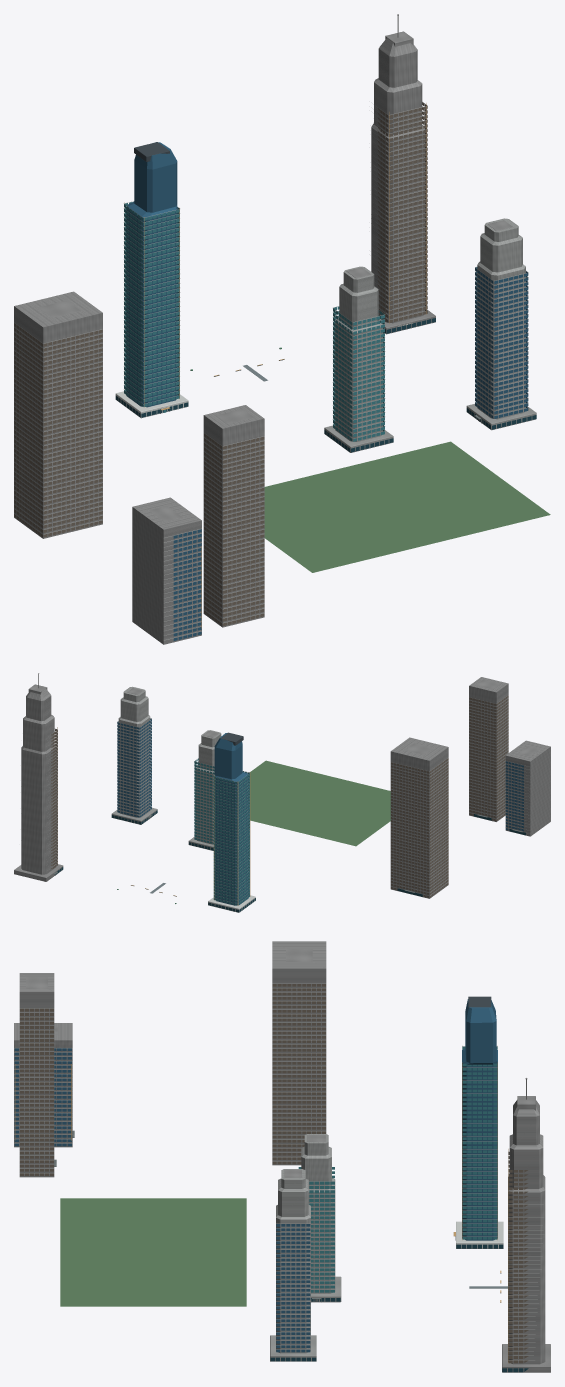
The model's file is cell_3_-2_lod1.gltf.
3 views of the same model, one above another, from view 1: azimuth 30°, elevation 25°; view 2: azimuth 150°, elevation 25°; view 3: azimuth 270°, elevation 25° (orthographic). The views are drawn at different scales.
Parts seen in each view (by area): view 1: EKO_FINANCE_SPIRE, EKO_BATCH_EKO_|_smoked_bronze_glass, OPENSPACE_1760, ATLANTIC_EXCHANGE_LANDMARK, EKO_RETAIL_PODIUM_ATLANTIC_EXCHANGE_LANDMARK, EKO_ENTRY_DOOR_ATLANTIC_EXCHANGE_LANDMARK, EKO_FINANCE_TOWER_03, EKO_CROWN_EKO_FINANCE_SPIRE, EKO_ENTRY_PIER_A_EKO_FINANCE_TOWER_03, EKO_BATCH_EKO_|_retail_storefront_glass, EKO_ENTRY_CANOPY_ATLANTIC_EXCHANGE_LANDMARK; view 2: EKO_FINANCE_SPIRE, EKO_BATCH_EKO_|_smoked_bronze_glass, OPENSPACE_1760, ATLANTIC_EXCHANGE_LANDMARK, EKO_RETAIL_PODIUM_ATLANTIC_EXCHANGE_LANDMARK, EKO_ENTRY_DOOR_ATLANTIC_EXCHANGE_LANDMARK, EKO_FINANCE_TOWER_03, EKO_CROWN_EKO_FINANCE_SPIRE, EKO_BATCH_EKO_|_retail_storefront_glass, EKO_ENTRY_CANOPY_ATLANTIC_EXCHANGE_LANDMARK, EKO_ENTRY_PIER_A_EKO_FINANCE_TOWER_03; view 3: EKO_FINANCE_SPIRE, OPENSPACE_1760, EKO_BATCH_EKO_|_smoked_bronze_glass, ATLANTIC_EXCHANGE_LANDMARK, EKO_RETAIL_PODIUM_ATLANTIC_EXCHANGE_LANDMARK, EKO_FINANCE_TOWER_03, EKO_ENTRY_DOOR_ATLANTIC_EXCHANGE_LANDMARK, EKO_CROWN_EKO_FINANCE_SPIRE, EKO_ENTRY_PIER_A_EKO_FINANCE_TOWER_03, EKO_ENTRY_CANOPY_ATLANTIC_EXCHANGE_LANDMARK, EKO_BATCH_EKO_|_retail_storefront_glass.
Boxes of the visible parts, x1,y1,x2,y2 form: EKO_FINANCE_SPIRE: [14, 38, 424, 644]; EKO_BATCH_EKO_|_smoked_bronze_glass: [14, 102, 427, 626]; OPENSPACE_1760: [264, 441, 550, 572]; ATLANTIC_EXCHANGE_LANDMARK: [126, 142, 528, 640]; EKO_RETAIL_PODIUM_ATLANTIC_EXCHANGE_LANDMARK: [14, 102, 528, 640]; EKO_ENTRY_DOOR_ATLANTIC_EXCHANGE_LANDMARK: [124, 201, 384, 441]; EKO_FINANCE_TOWER_03: [335, 218, 525, 441]; EKO_CROWN_EKO_FINANCE_SPIRE: [39, 14, 512, 521]; EKO_ENTRY_PIER_A_EKO_FINANCE_TOWER_03: [324, 404, 536, 452]; EKO_BATCH_EKO_|_retail_storefront_glass: [115, 318, 536, 452]; EKO_ENTRY_CANOPY_ATLANTIC_EXCHANGE_LANDMARK: [124, 103, 426, 628]; EKO_FINANCE_SPIRE: [21, 677, 550, 898]; EKO_BATCH_EKO_|_smoked_bronze_glass: [51, 695, 508, 897]; OPENSPACE_1760: [250, 760, 390, 846]; ATLANTIC_EXCHANGE_LANDMARK: [117, 718, 523, 905]; EKO_RETAIL_PODIUM_ATLANTIC_EXCHANGE_LANDMARK: [51, 695, 529, 912]; EKO_ENTRY_DOOR_ATLANTIC_EXCHANGE_LANDMARK: [194, 758, 249, 905]; EKO_FINANCE_TOWER_03: [118, 686, 221, 844]; EKO_CROWN_EKO_FINANCE_SPIRE: [14, 673, 539, 881]; EKO_BATCH_EKO_|_retail_storefront_glass: [55, 810, 525, 912]; EKO_ENTRY_CANOPY_ATLANTIC_EXCHANGE_LANDMARK: [57, 727, 250, 905]; EKO_ENTRY_PIER_A_EKO_FINANCE_TOWER_03: [111, 807, 213, 850]; EKO_FINANCE_SPIRE: [14, 941, 545, 1364]; OPENSPACE_1760: [60, 1198, 246, 1306]; EKO_BATCH_EKO_|_smoked_bronze_glass: [20, 984, 528, 1363]; ATLANTIC_EXCHANGE_LANDMARK: [14, 999, 497, 1352]; EKO_RETAIL_PODIUM_ATLANTIC_EXCHANGE_LANDMARK: [14, 983, 544, 1360]; EKO_FINANCE_TOWER_03: [276, 1134, 335, 1353]; EKO_ENTRY_DOOR_ATLANTIC_EXCHANGE_LANDMARK: [298, 1046, 497, 1292]; EKO_CROWN_EKO_FINANCE_SPIRE: [26, 949, 550, 1372]; EKO_ENTRY_PIER_A_EKO_FINANCE_TOWER_03: [270, 1276, 341, 1361]; EKO_ENTRY_CANOPY_ATLANTIC_EXCHANGE_LANDMARK: [15, 1062, 508, 1363]; EKO_BATCH_EKO_|_retail_storefront_glass: [270, 1244, 528, 1372].
Bounding box in the file's own units: 493 × 269 × 461.
14 materials, 3 textured.
